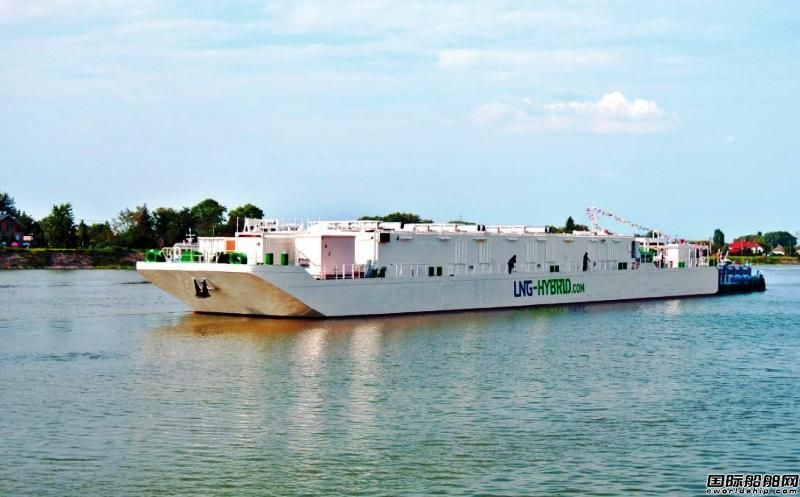otherboat: (140, 199, 754, 320)
